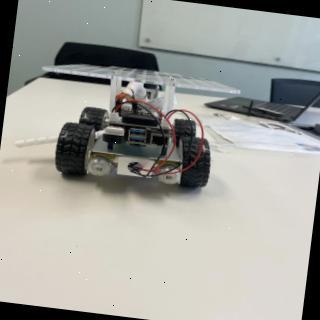vehicle: (49, 66, 241, 201)
